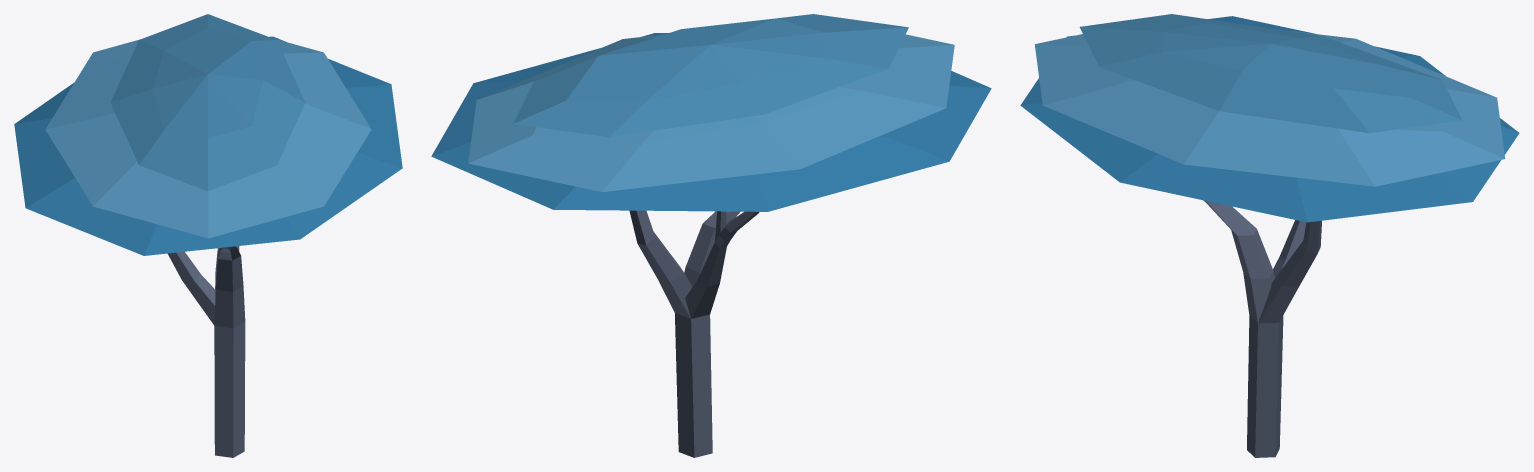
The model's file is tree_orig_textured.glb.
The picture shows the model from 3 angles, left to right: view 1: azimuth 30°, elevation 25°; view 2: azimuth 150°, elevation 25°; view 3: azimuth 270°, elevation 25°; orthographic projection. The views are drawn at different scales.
Visible parts, largest first — view 1: SP_Tree01; view 2: SP_Tree01; view 3: SP_Tree01.
Boxes of the visible parts, x1,y1,x2,y2 form: SP_Tree01: (14, 14, 402, 457); SP_Tree01: (431, 14, 991, 457); SP_Tree01: (1020, 14, 1519, 457).
Size of the model in its own units: 4.29 by 3.87 by 4.39.
1 material, 1 textured.
